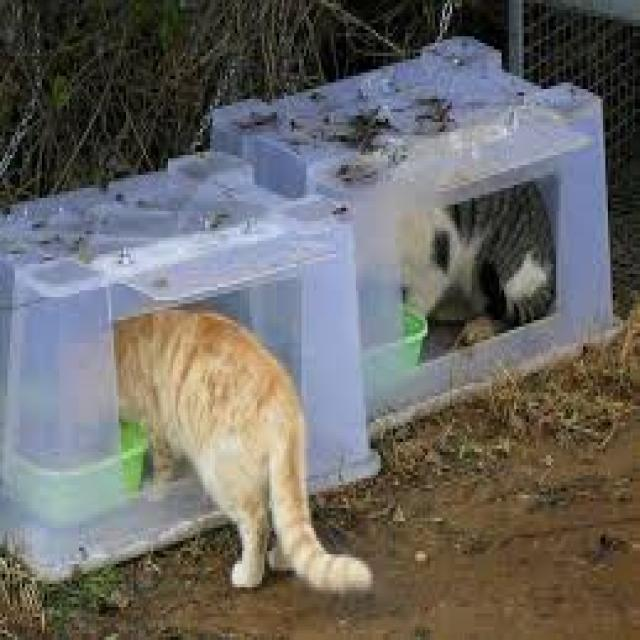cat: (117, 312, 373, 592), (404, 182, 553, 326)
